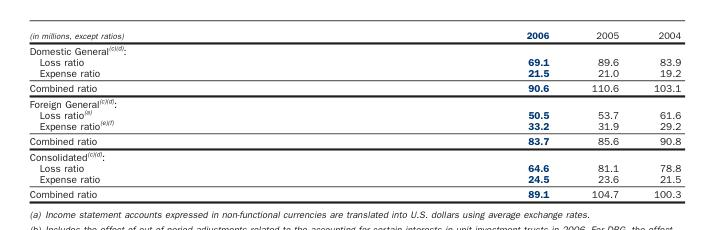table: (28, 28, 680, 198)
table column: (28, 28, 324, 198), (324, 28, 569, 198), (569, 28, 635, 198), (635, 28, 680, 198)
table column header: (28, 28, 680, 41)
table projected row header: (28, 41, 680, 55), (28, 94, 680, 108), (28, 147, 680, 161)
table row: (28, 79, 680, 94), (28, 132, 680, 147), (28, 41, 680, 55), (28, 94, 680, 108), (28, 118, 680, 132), (28, 147, 680, 161), (28, 28, 680, 41), (28, 66, 680, 79), (28, 172, 680, 185), (28, 185, 680, 198), (28, 55, 680, 66), (28, 161, 680, 172), (28, 108, 680, 118)
